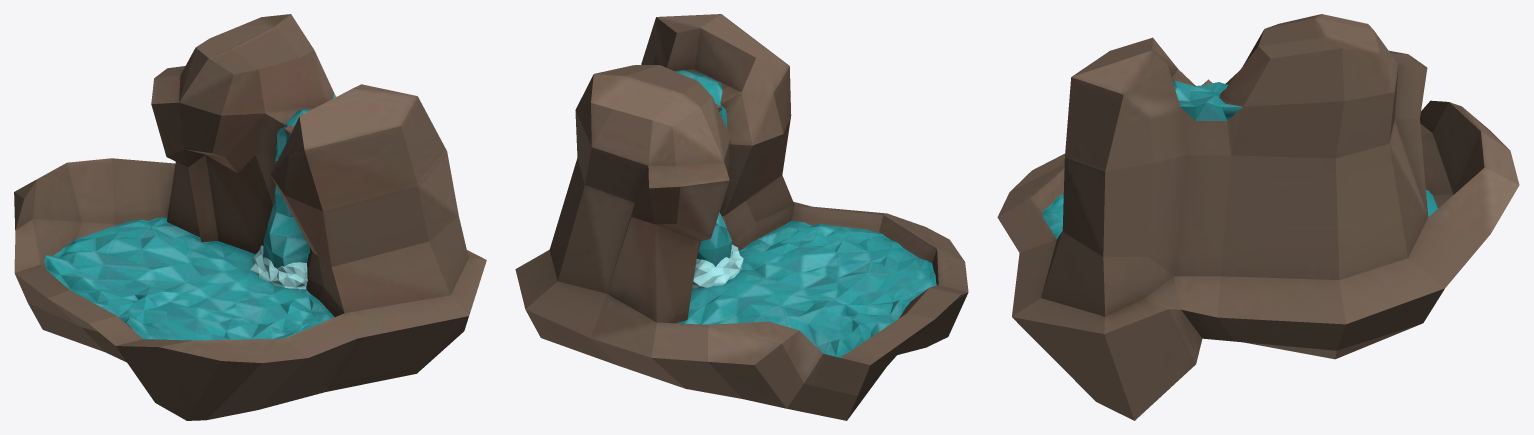
The model's file is fountain_waterfall.glb.
3 views of the same model, side by side, from view 1: azimuth 30°, elevation 25°; view 2: azimuth 150°, elevation 25°; view 3: azimuth 270°, elevation 25° (orthographic). The views are drawn at different scales.
Parts seen in each view (by area): view 1: Waterfall_mesh; view 2: Waterfall_mesh; view 3: Waterfall_mesh.
Part boxes in pixels (x1,y1,x2,y2): Waterfall_mesh: [14, 14, 486, 420]; Waterfall_mesh: [515, 14, 968, 420]; Waterfall_mesh: [997, 14, 1519, 420].
Size of the model in its own units: 35.57 by 26.08 by 36.16.
Materials: 1 (1 with a texture image).
